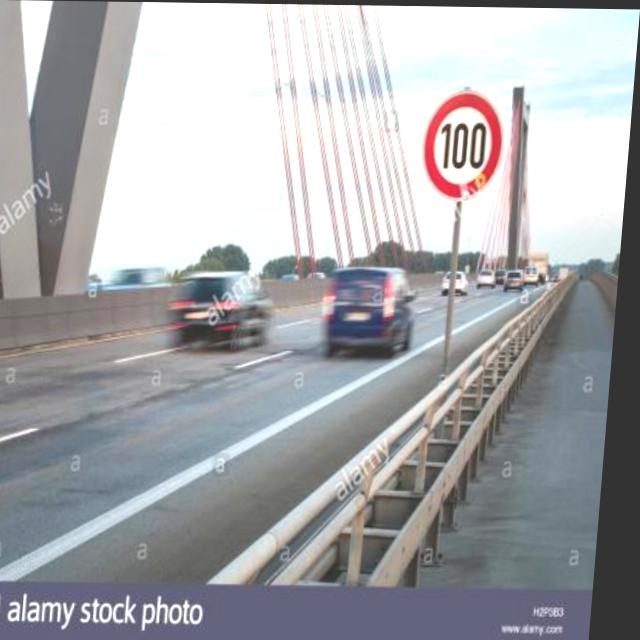limit100: (411, 84, 513, 203)
